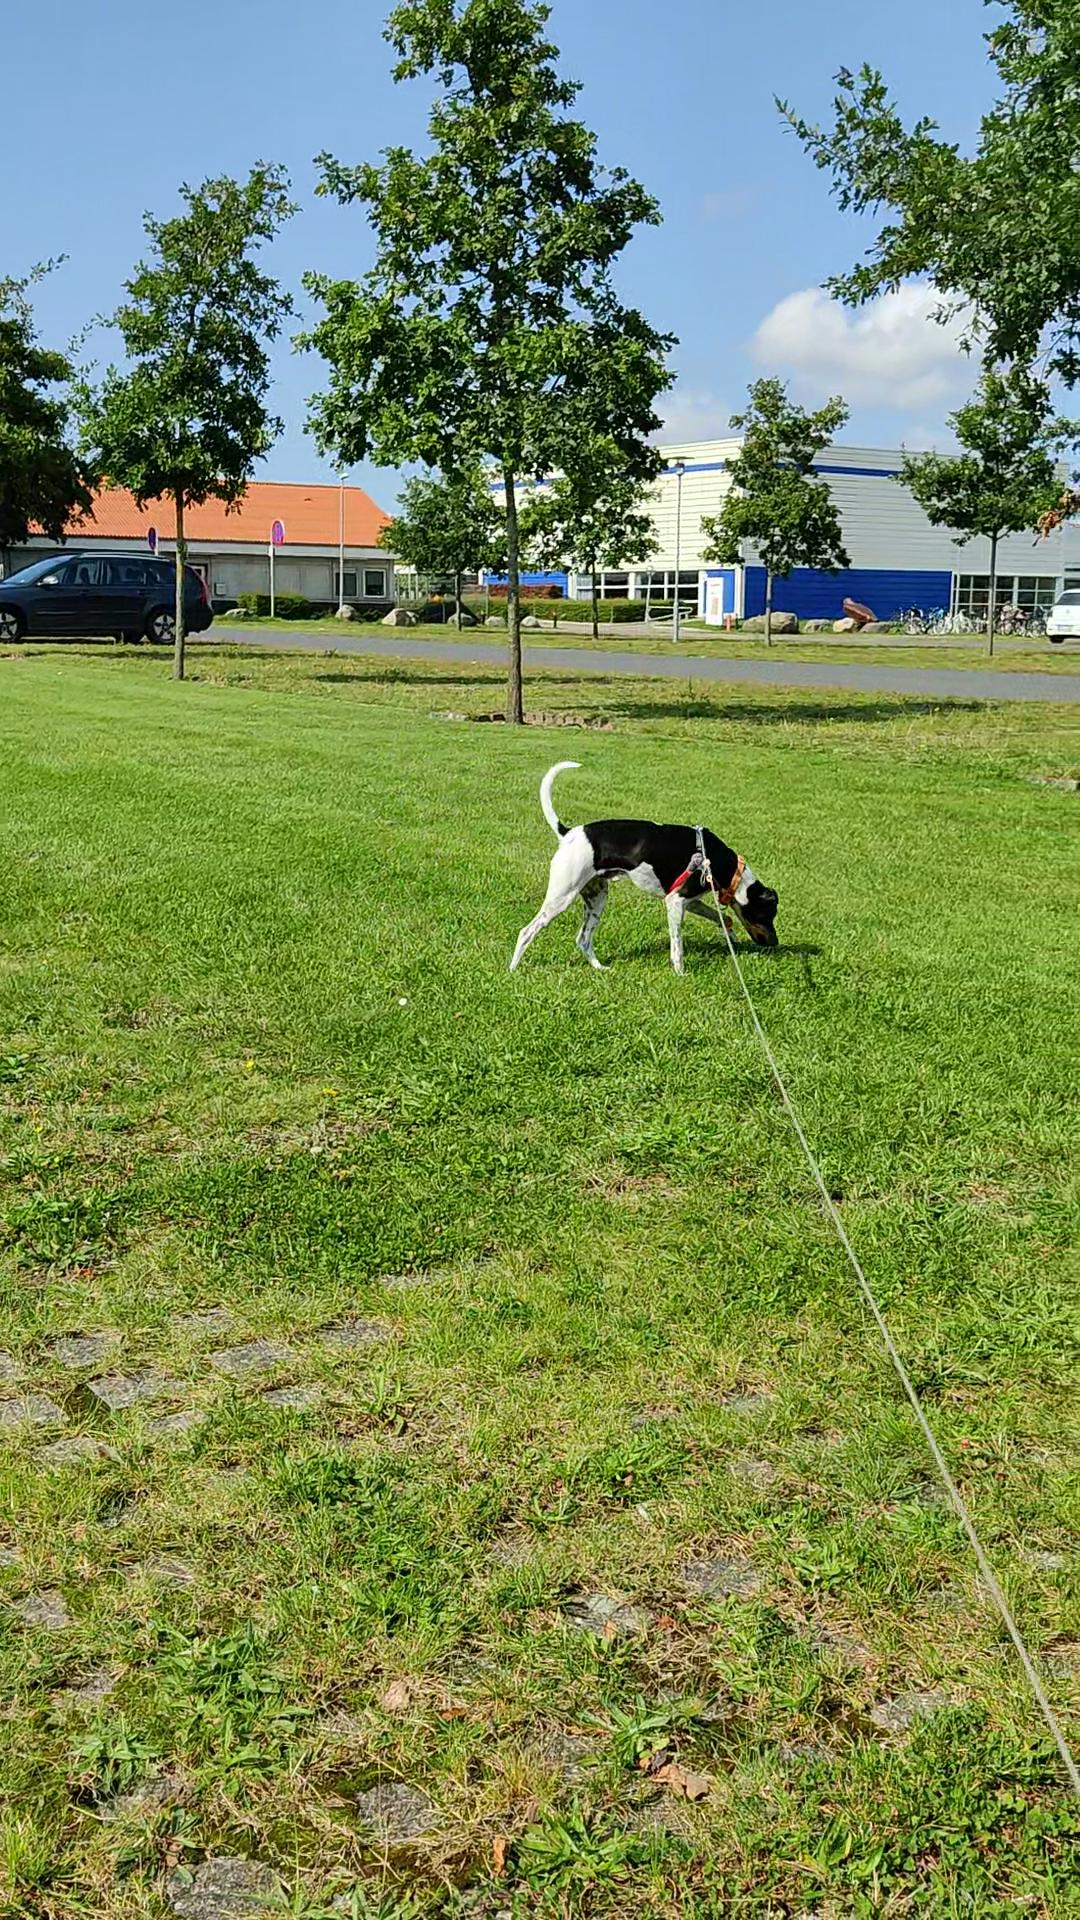Dog: (497, 746, 796, 993)
